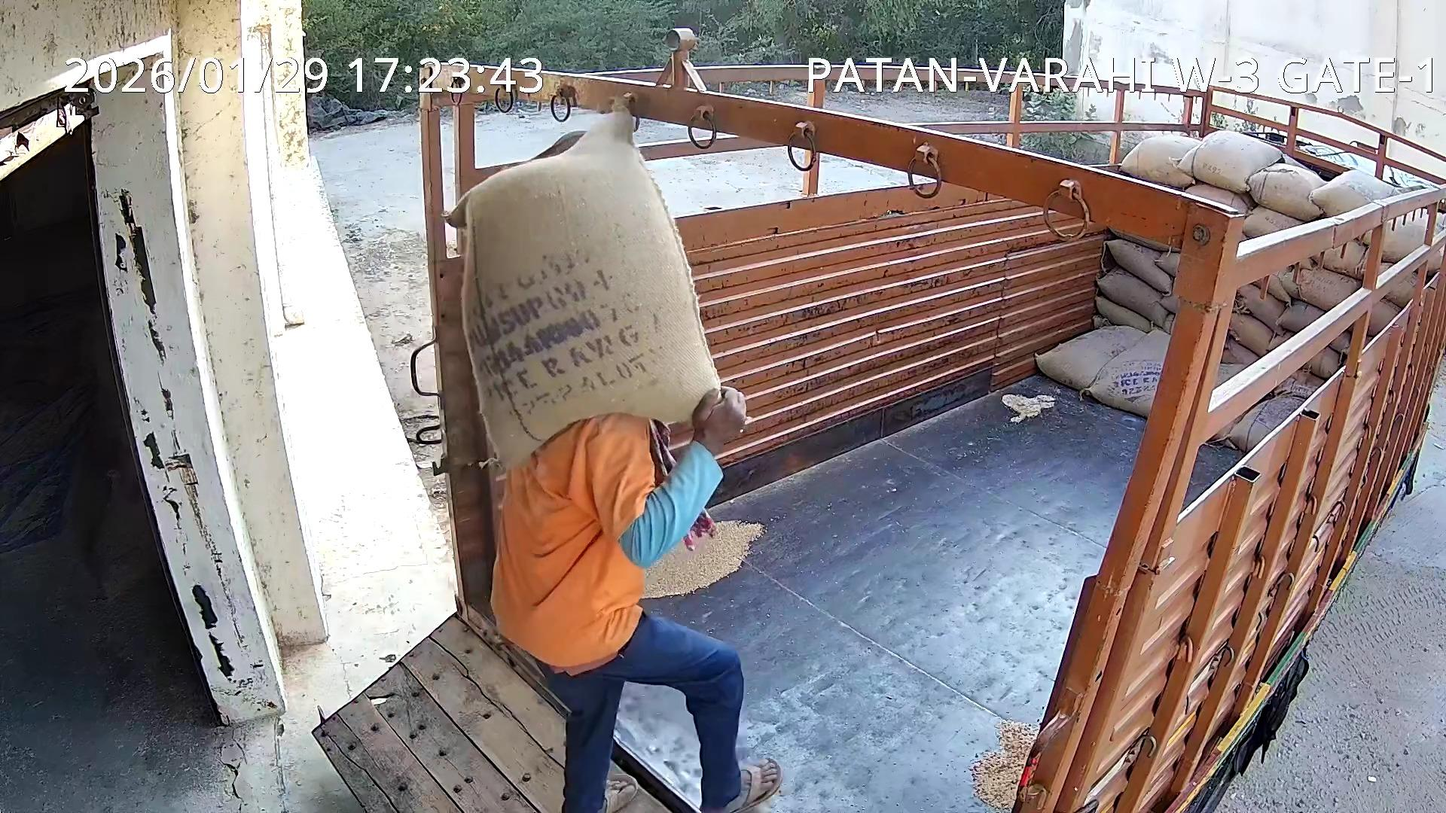Sack: (447, 102, 718, 467)
